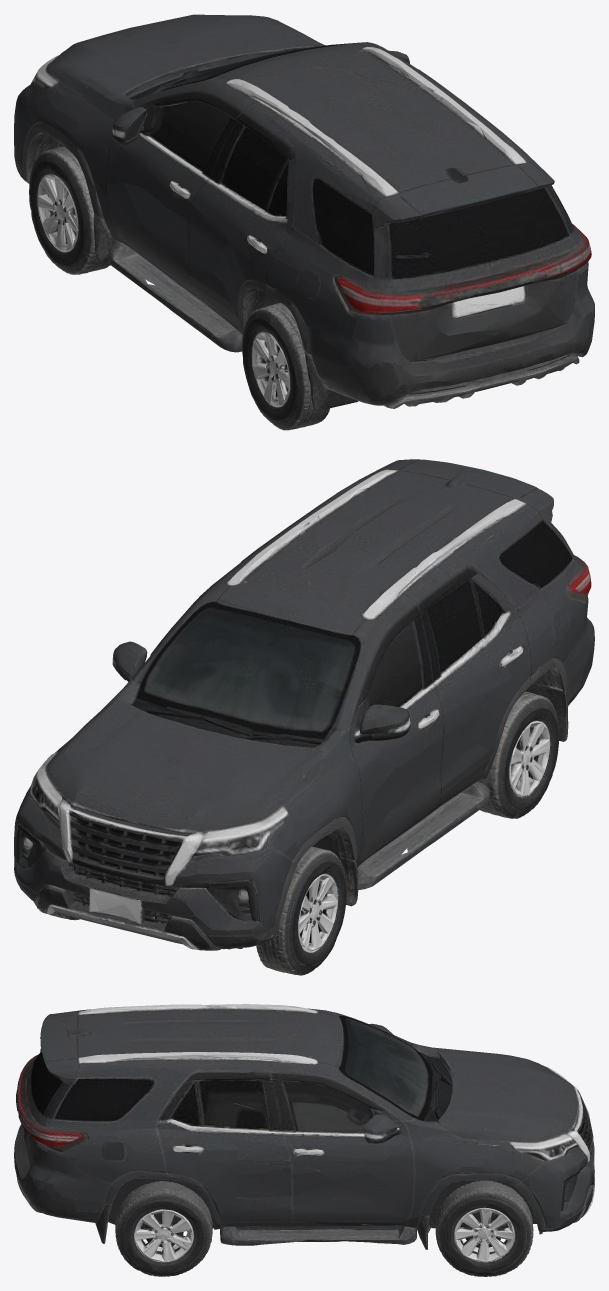
File: e4suv.glb
The picture shows the model from 3 angles, top to bottom: view 1: azimuth 30°, elevation 25°; view 2: azimuth 150°, elevation 25°; view 3: azimuth 270°, elevation 25°; orthographic projection. The views are drawn at different scales.
Visible parts, largest first — view 1: output_unwrapped; view 2: output_unwrapped; view 3: output_unwrapped.
Part boxes in pixels (left/top/right/bottom): output_unwrapped: left=14, top=14, right=594, bottom=430; output_unwrapped: left=14, top=459, right=594, bottom=975; output_unwrapped: left=14, top=1004, right=594, bottom=1276.
Bounding box in the file's own units: 2.11 × 1.84 × 4.8.
Materials: 1 (1 with a texture image).
